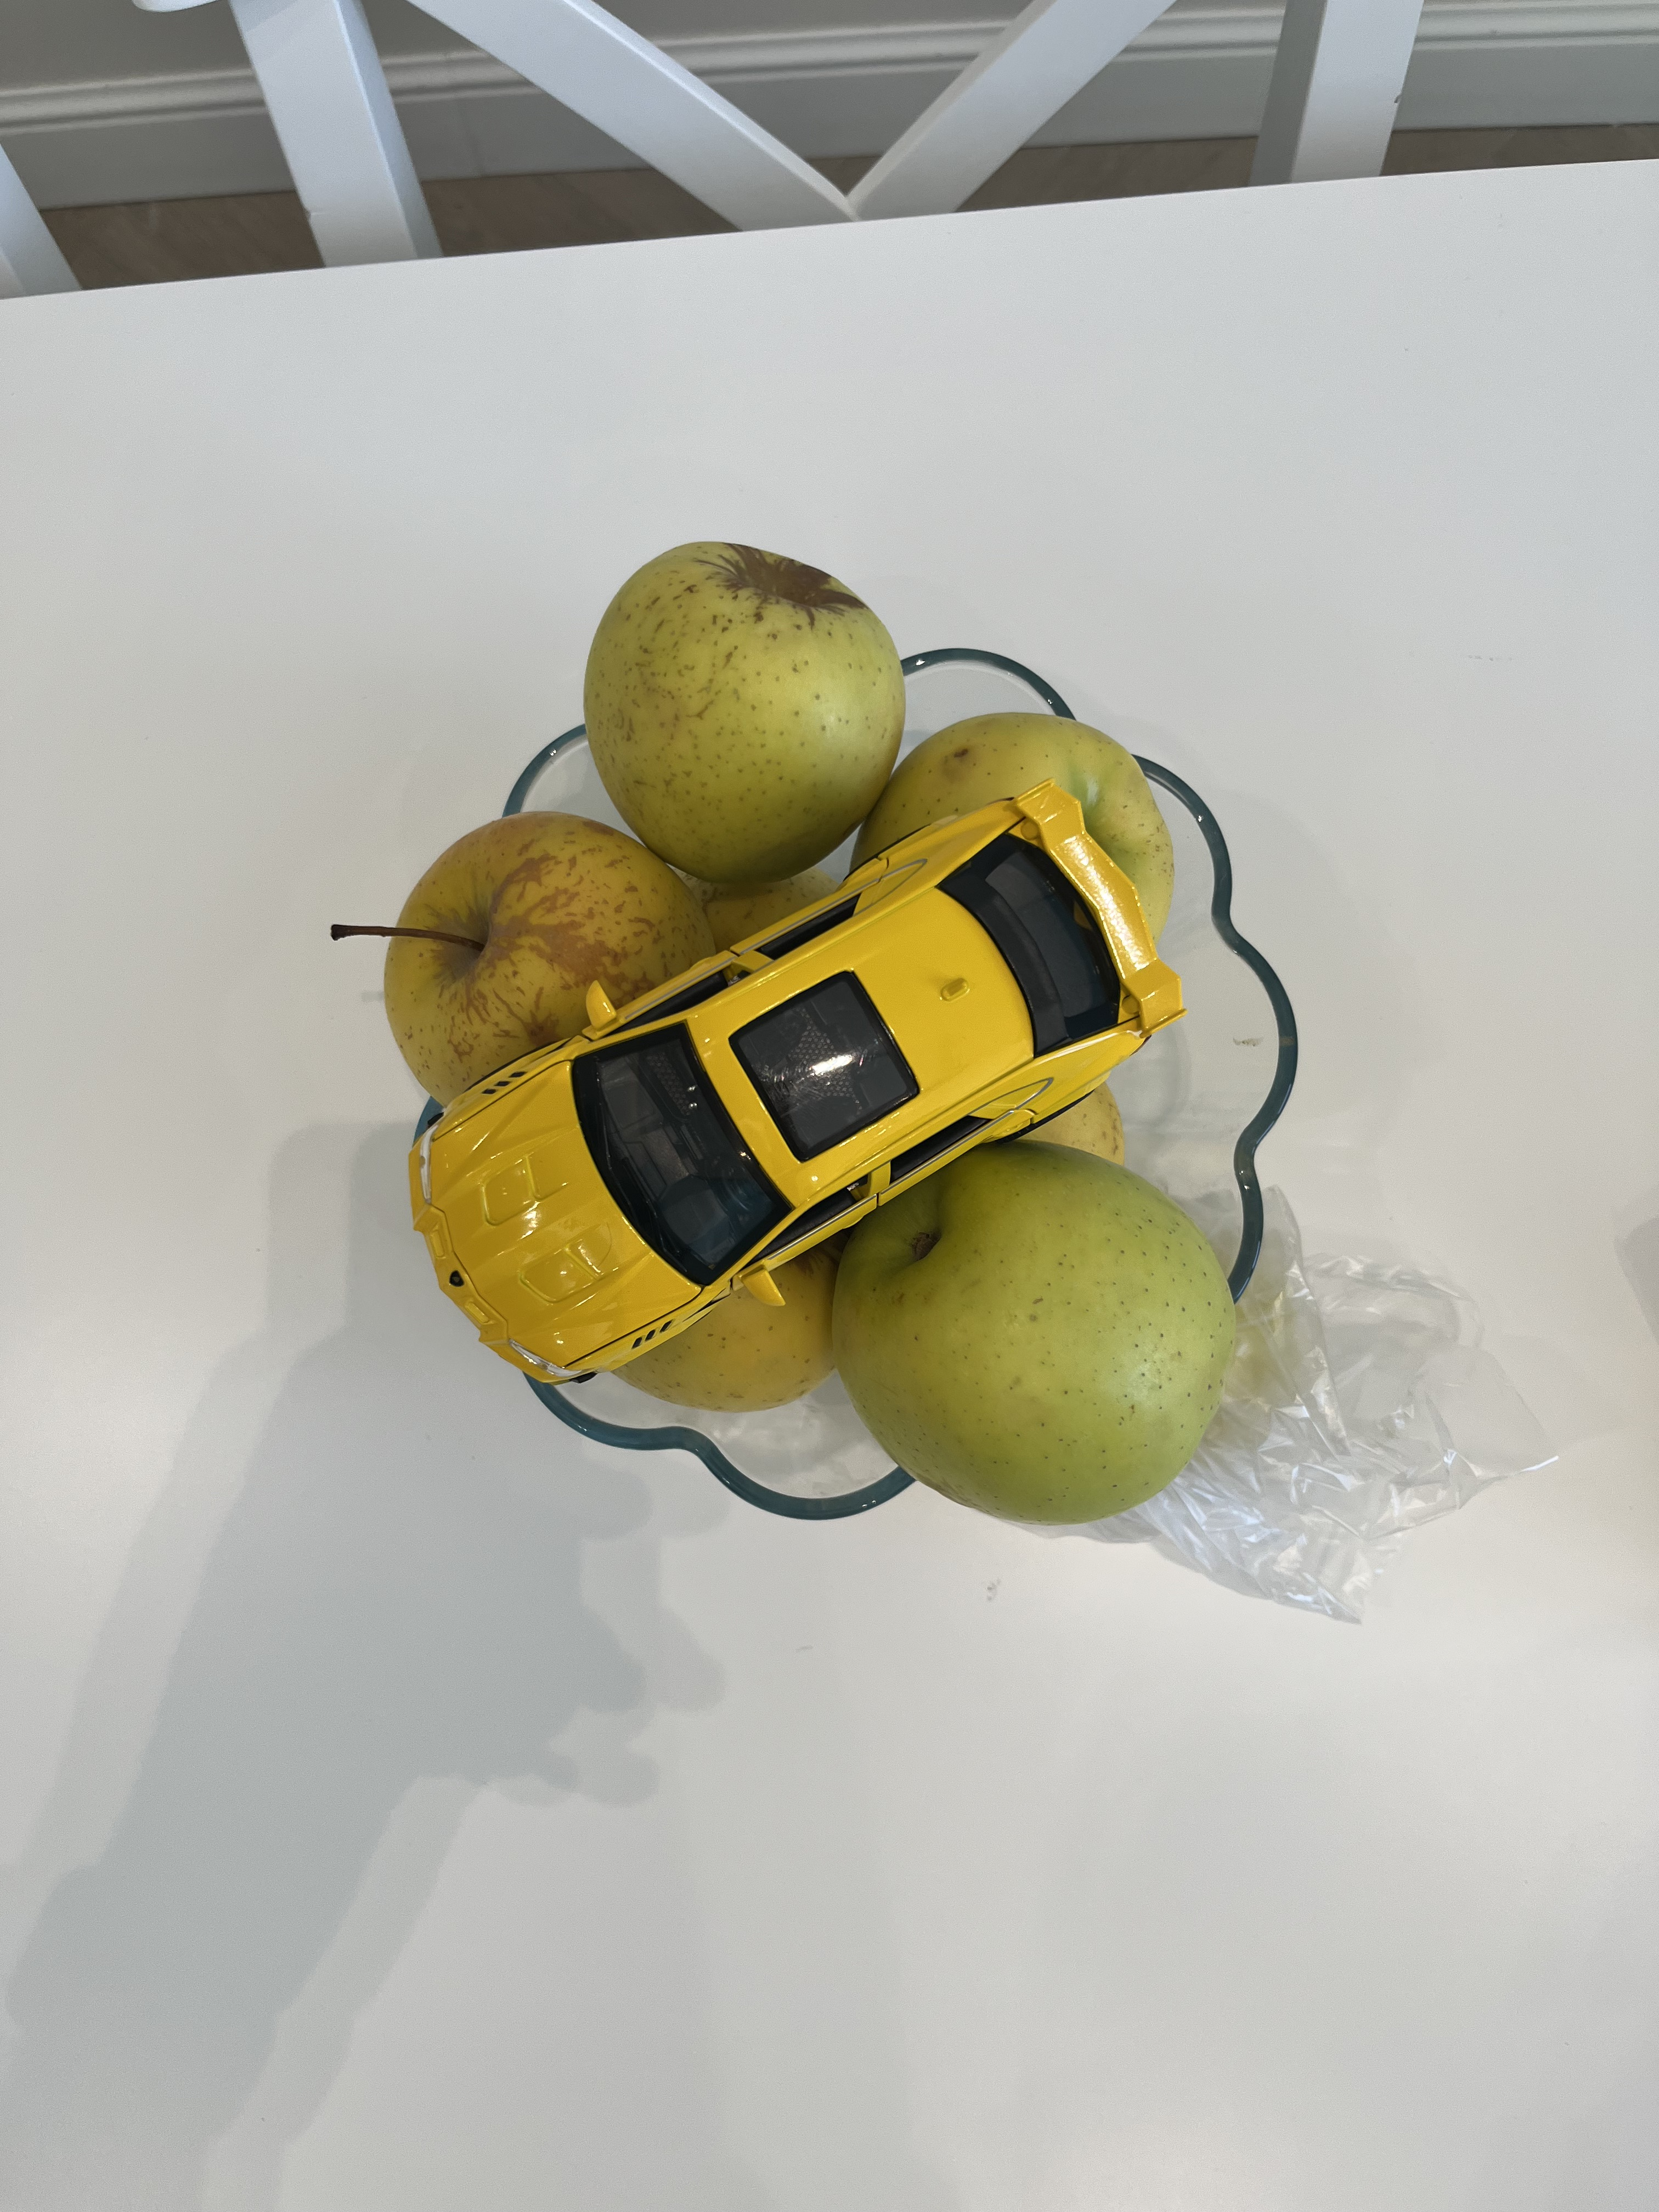lambo: (394, 768, 1220, 1402)
